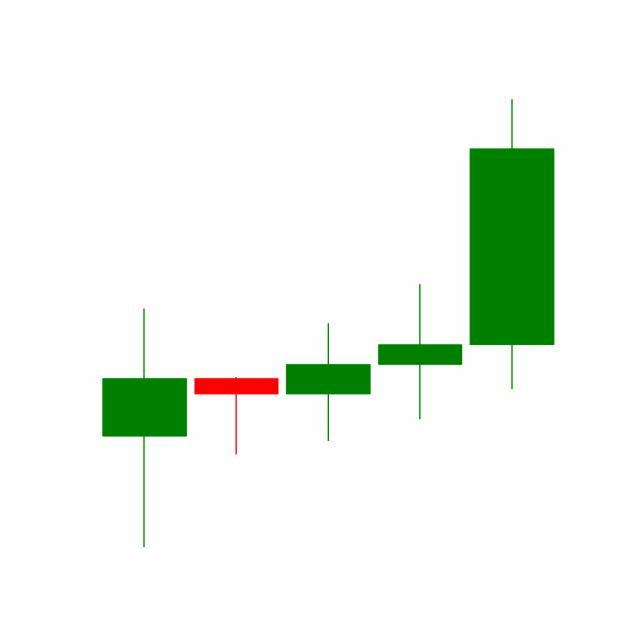Spinning Top: (374, 283, 468, 422)
